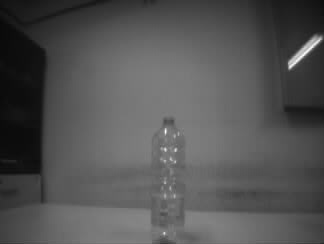Bottle: (149, 113, 186, 244)
